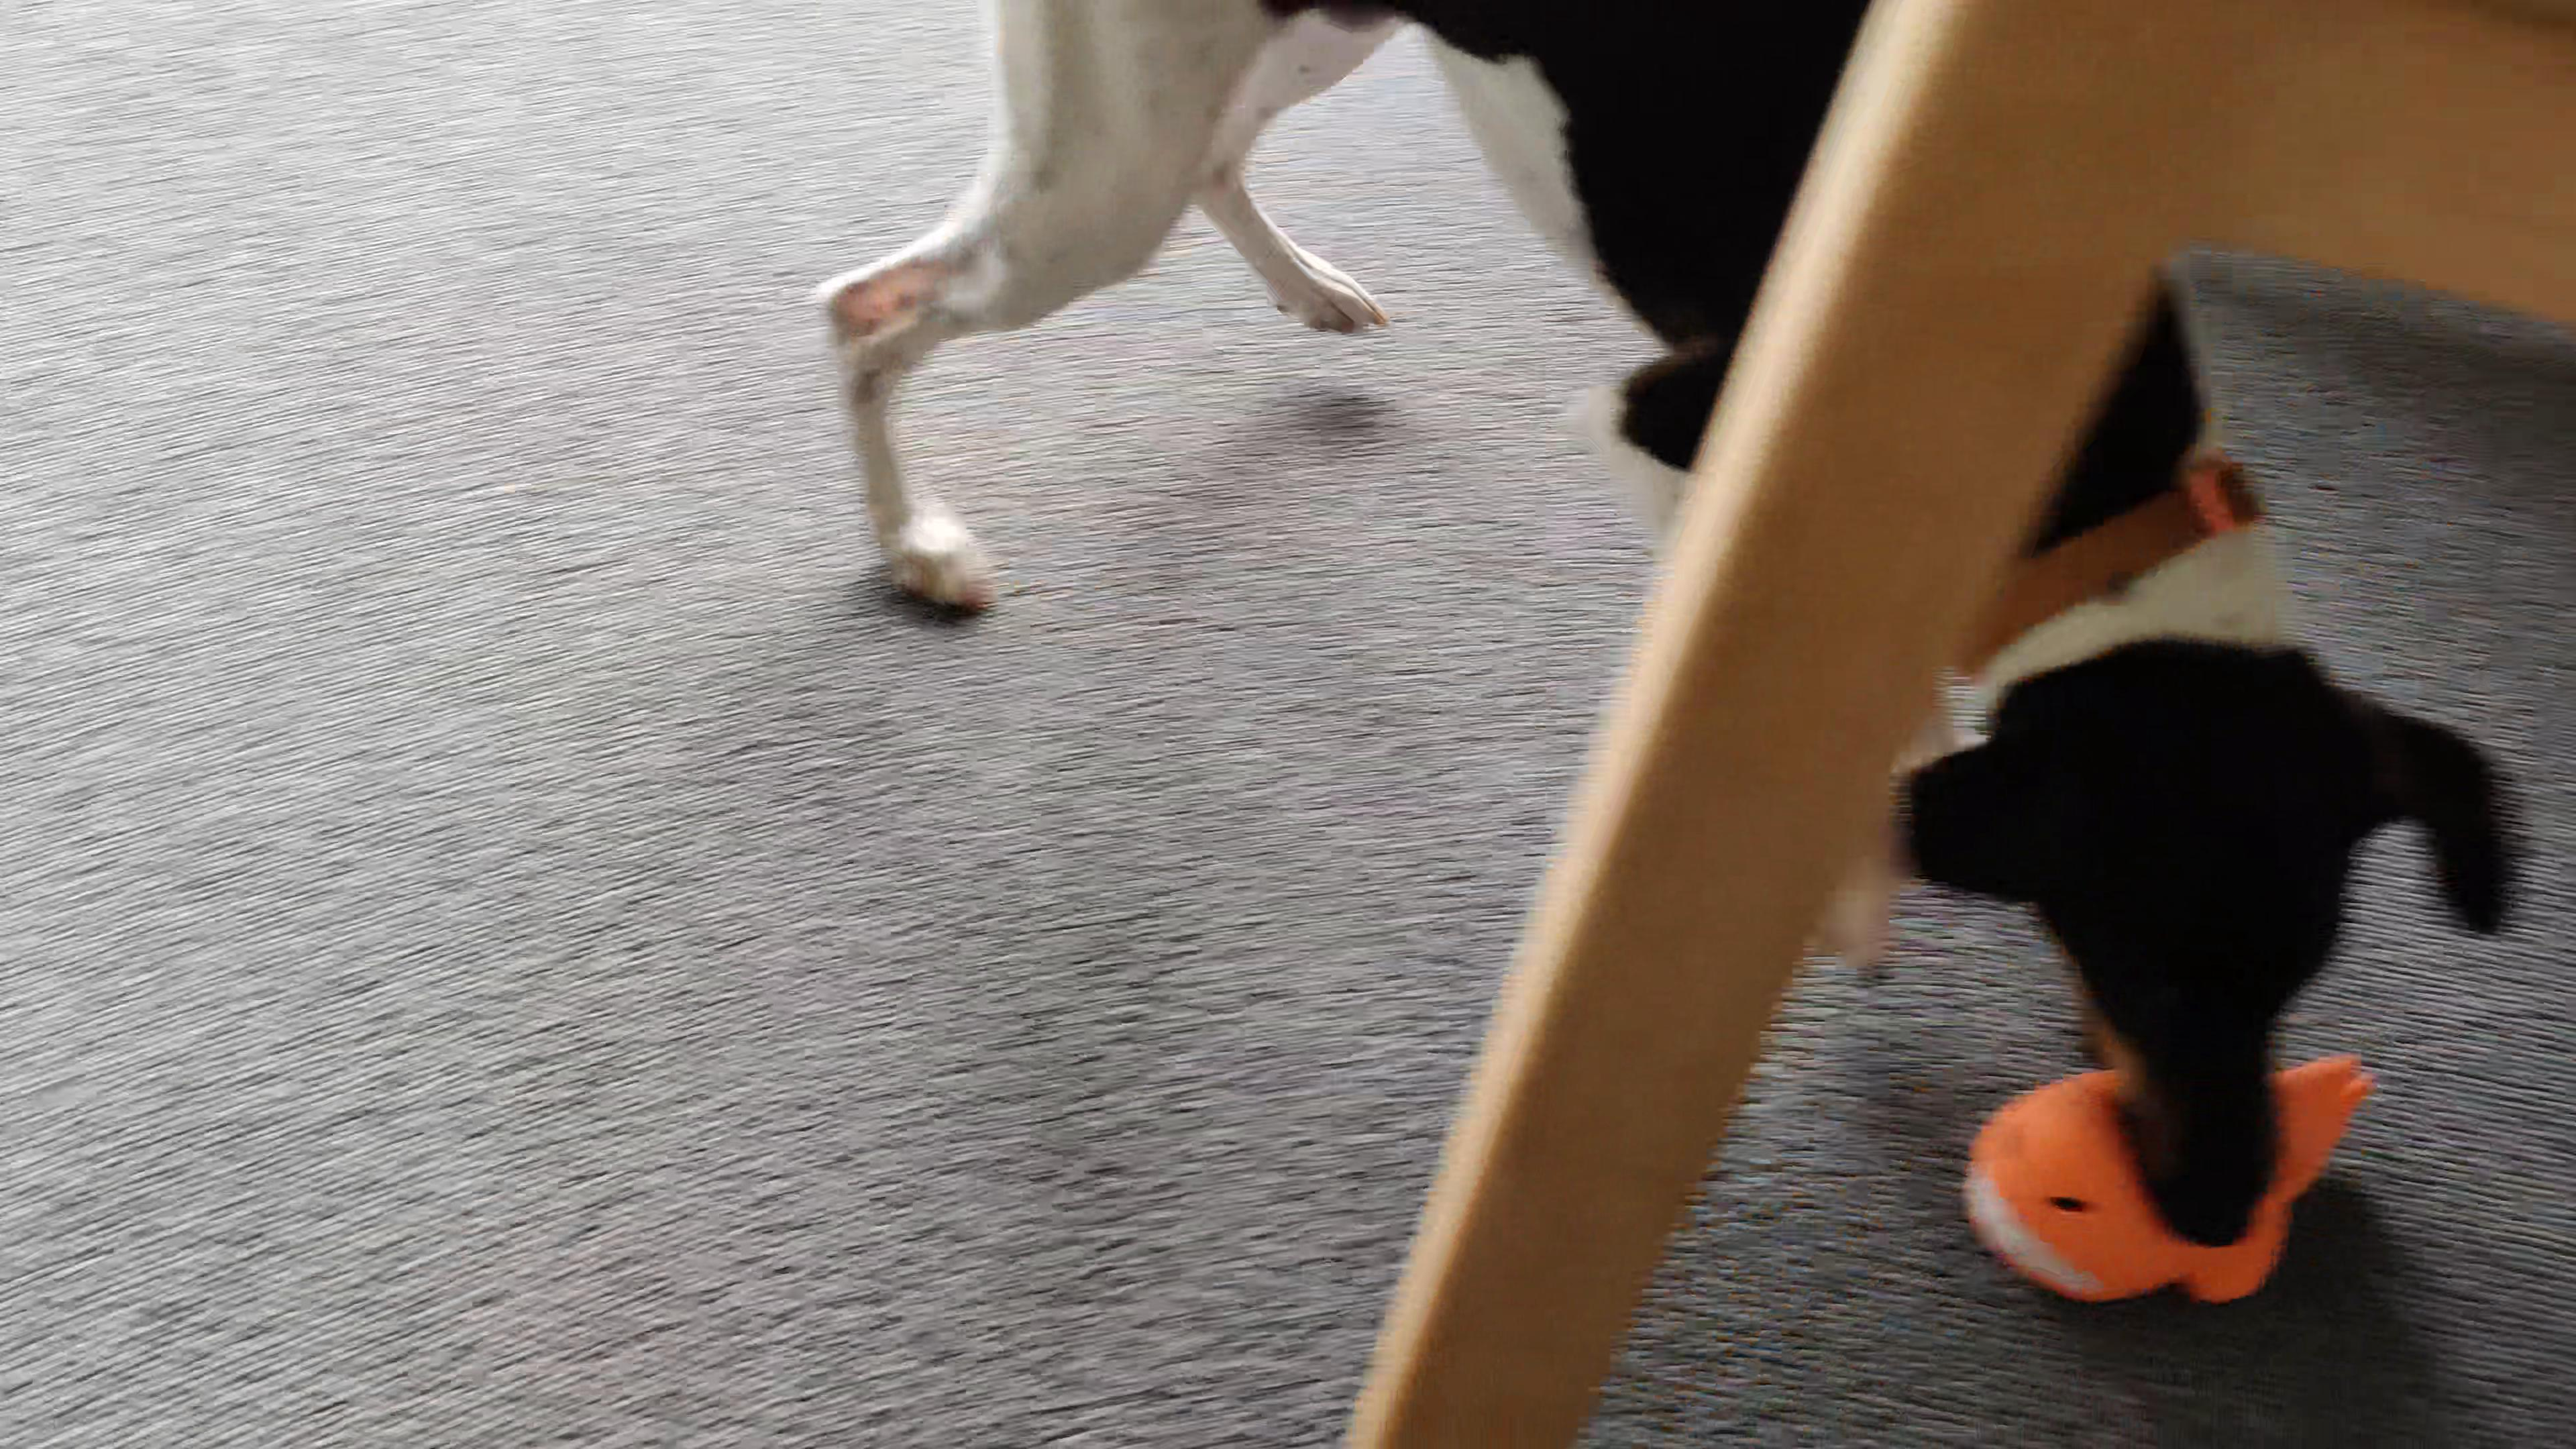Dog: (800, 0, 2542, 1254)
